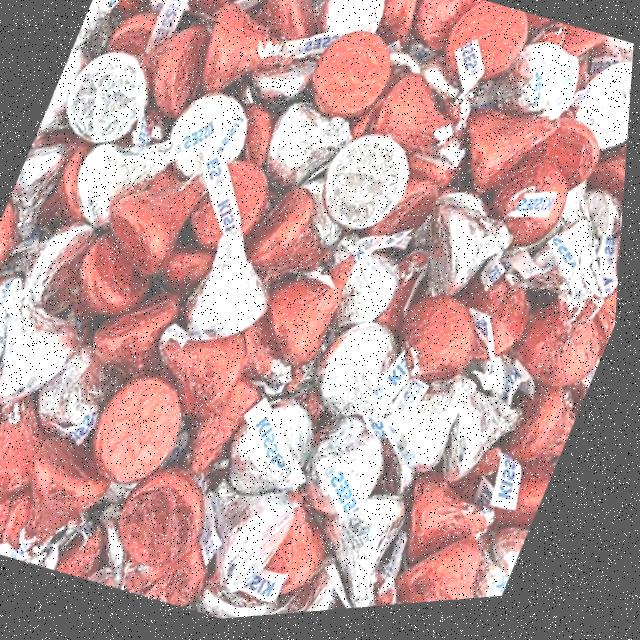kisses: (60, 97, 198, 246), (179, 467, 317, 603), (26, 317, 153, 464), (308, 481, 436, 618), (217, 387, 345, 524), (299, 219, 425, 357), (172, 221, 295, 348), (514, 190, 628, 327), (53, 37, 166, 164), (153, 77, 270, 199), (0, 192, 111, 320), (255, 88, 372, 205), (426, 393, 535, 495), (316, 137, 415, 249), (388, 368, 487, 479), (0, 300, 88, 412), (417, 205, 510, 302), (558, 60, 635, 175), (315, 338, 413, 415), (302, 0, 404, 70), (499, 55, 581, 136)
